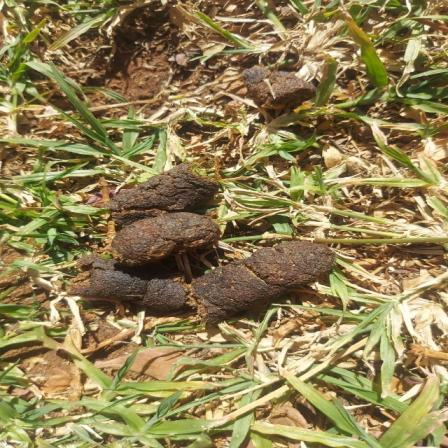dog-poop: (50, 154, 341, 326), (232, 52, 332, 116)
